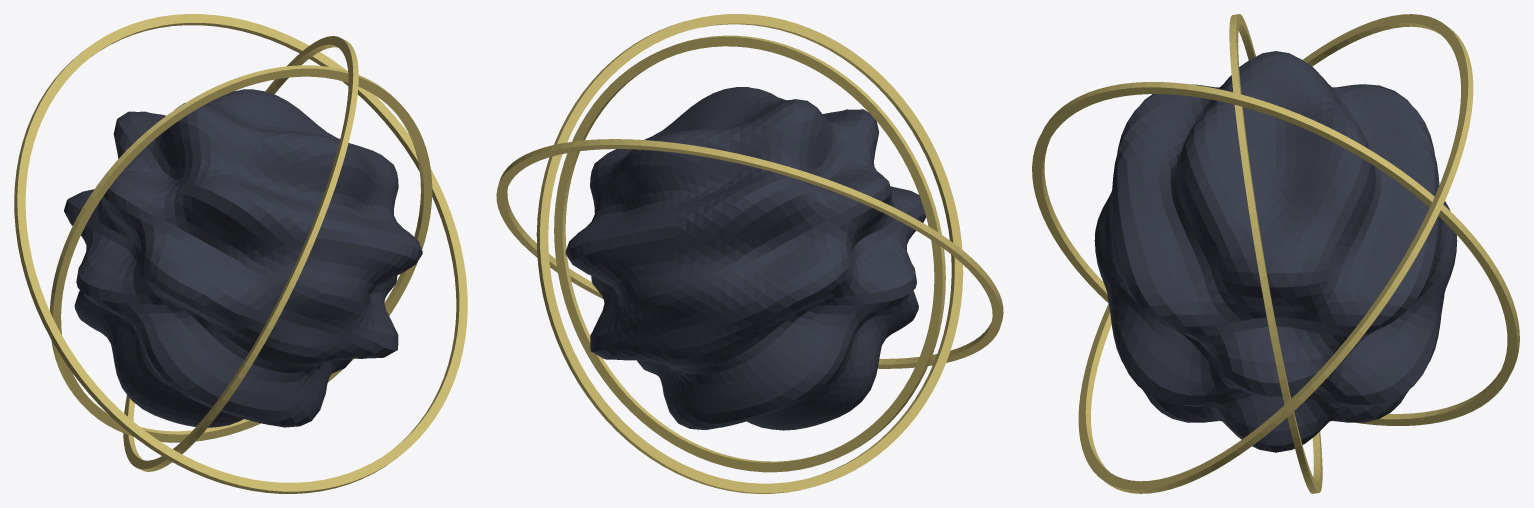
Rendered from gpu-artifact.glb.
3 views of the same model, side by side, from view 1: azimuth 30°, elevation 25°; view 2: azimuth 150°, elevation 25°; view 3: azimuth 270°, elevation 25° (orthographic). The views are drawn at different scales.
Parts seen in each view (by area): view 1: regex-droid-builder_obsidian_core, regex-droid-builder_orbital_ring_2, regex-droid-builder_orbital_ring_0, regex-droid-builder_orbital_ring_1; view 2: regex-droid-builder_obsidian_core, regex-droid-builder_orbital_ring_1, regex-droid-builder_orbital_ring_0, regex-droid-builder_orbital_ring_2; view 3: regex-droid-builder_obsidian_core, regex-droid-builder_orbital_ring_1, regex-droid-builder_orbital_ring_2, regex-droid-builder_orbital_ring_0.
Boxes of the visible parts, bbox=[...] form: regex-droid-builder_obsidian_core: bbox=[64, 89, 422, 427]; regex-droid-builder_orbital_ring_2: bbox=[14, 14, 467, 493]; regex-droid-builder_orbital_ring_0: bbox=[50, 65, 432, 442]; regex-droid-builder_orbital_ring_1: bbox=[123, 36, 358, 471]; regex-droid-builder_obsidian_core: bbox=[565, 87, 925, 430]; regex-droid-builder_orbital_ring_1: bbox=[536, 14, 963, 493]; regex-droid-builder_orbital_ring_0: bbox=[554, 35, 945, 472]; regex-droid-builder_orbital_ring_2: bbox=[496, 139, 1003, 368]; regex-droid-builder_obsidian_core: bbox=[1094, 51, 1457, 452]; regex-droid-builder_orbital_ring_1: bbox=[1032, 82, 1519, 425]; regex-droid-builder_orbital_ring_2: bbox=[1078, 14, 1473, 493]; regex-droid-builder_orbital_ring_0: bbox=[1229, 14, 1322, 493].
Size of the model in its own units: 3.22 by 2.72 by 2.77.
